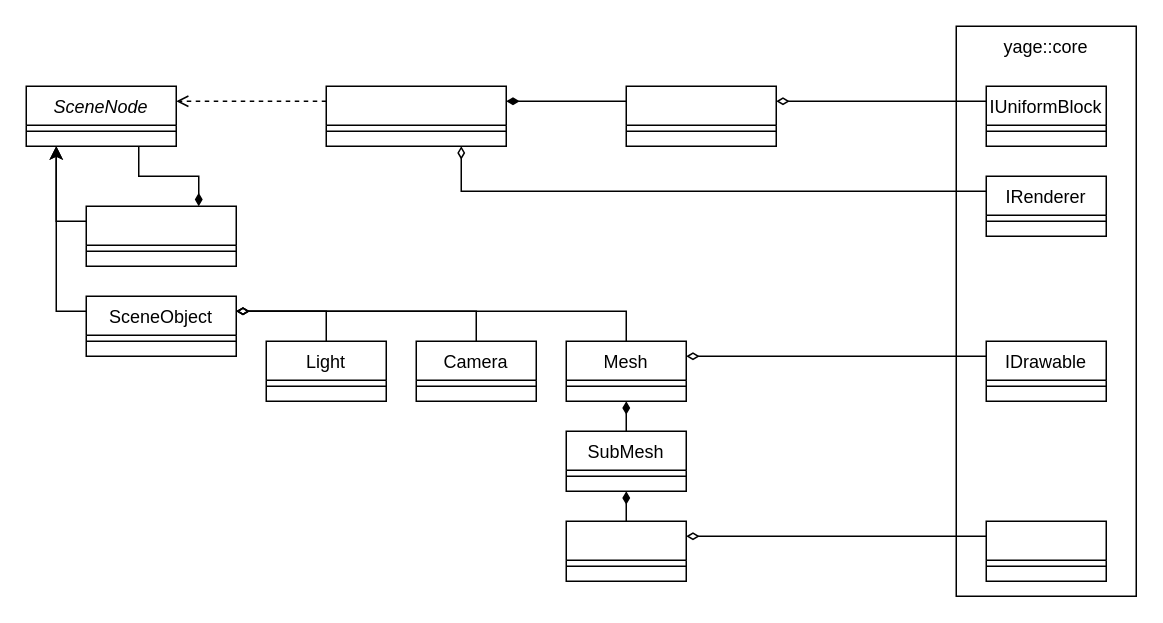
This 1163x623 diagram has some shape labels left out. The centre of each missing label's shape, as x and y in pixels:
IShader: pixel 1045 550
Material: pixel 625 550
ProjectionView: pixel 700 115
SceneGroup: pixel 160 235
SceneRenderer: pixel 415 115
